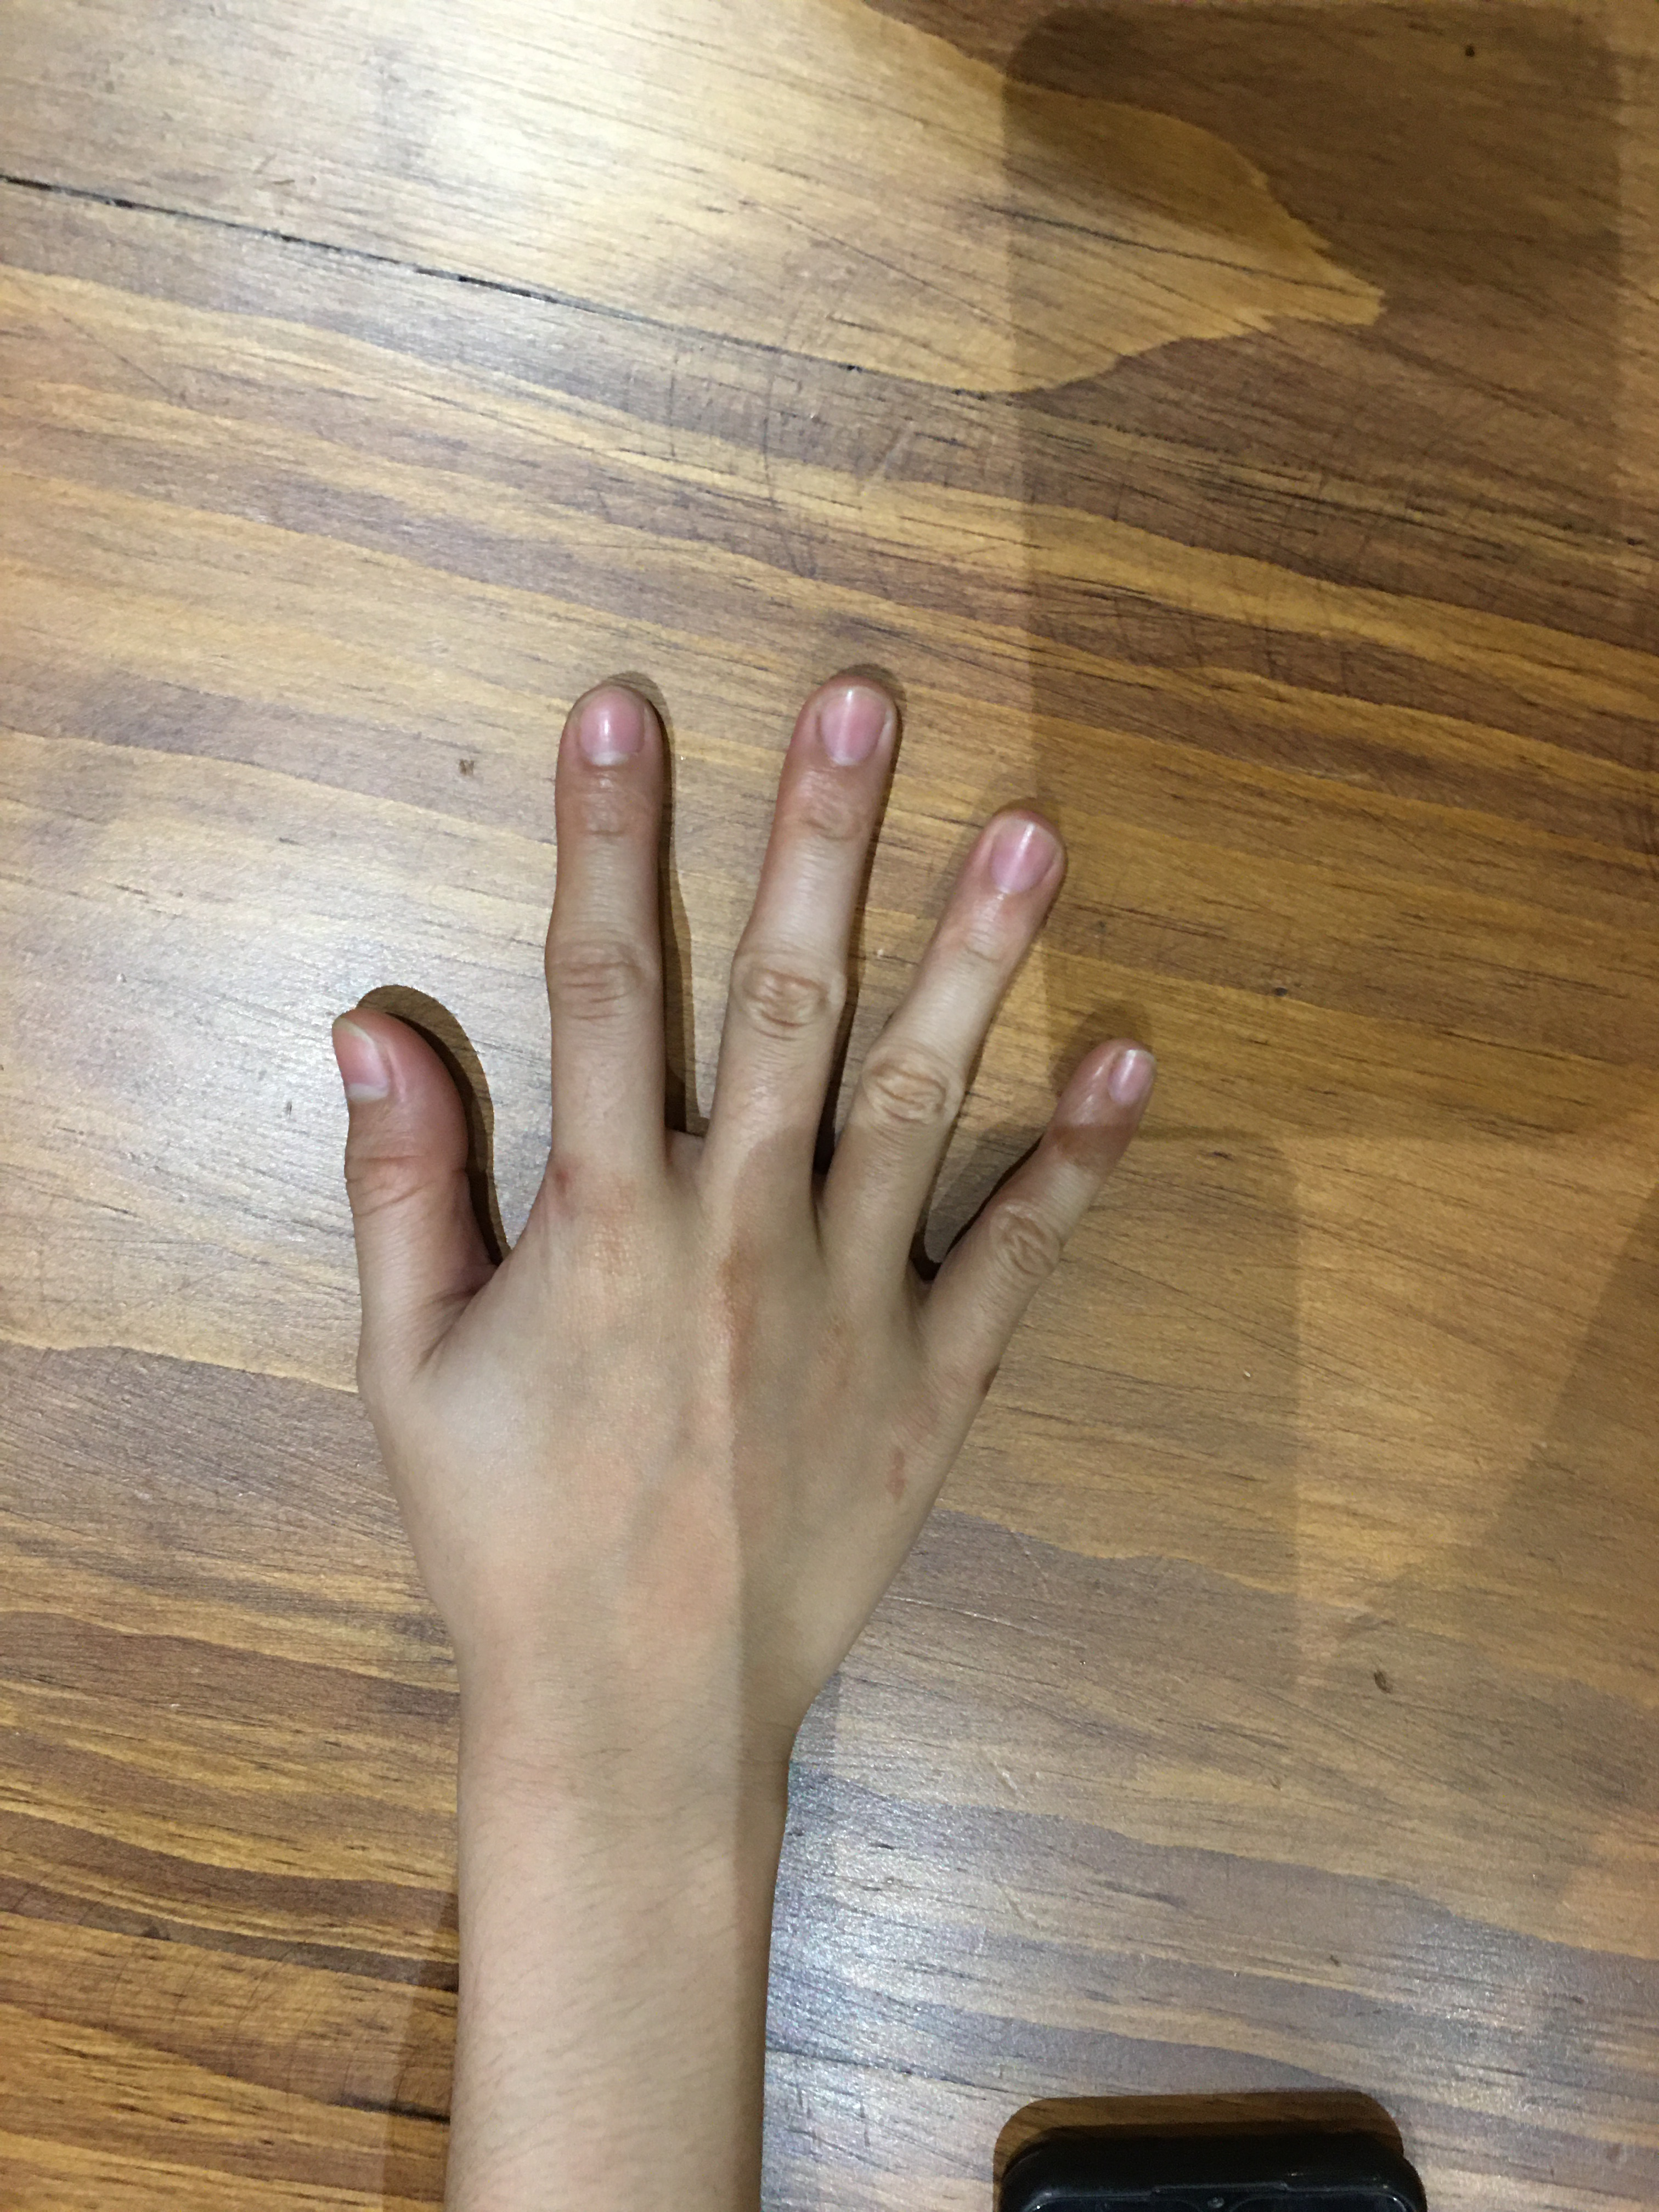nails: (538, 664, 667, 791), (793, 665, 911, 801), (321, 998, 429, 1122), (971, 798, 1073, 918), (1094, 1036, 1169, 1127)
